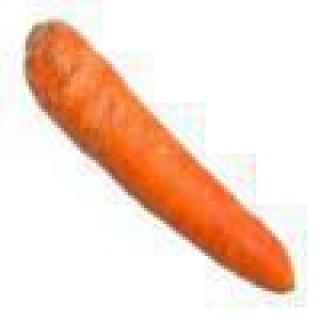Wortel: (11, 11, 296, 305)
